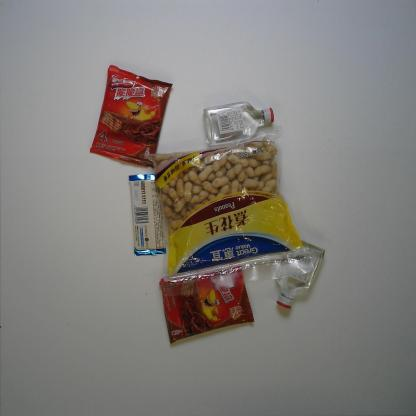Alcohol: (275, 239, 326, 309), (202, 100, 275, 147)
Chocolate: (128, 172, 167, 256)
Dessert: (88, 64, 174, 170), (158, 259, 256, 345)
Dried Food: (138, 127, 315, 298)
